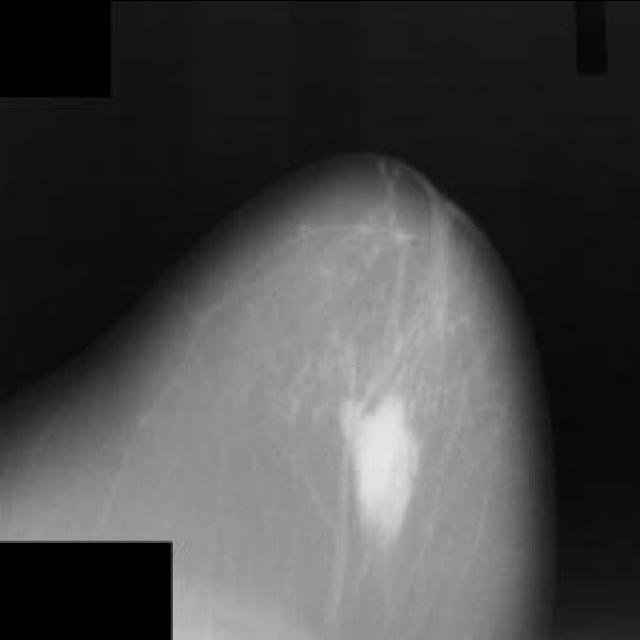tumor: (331, 384, 428, 561)
